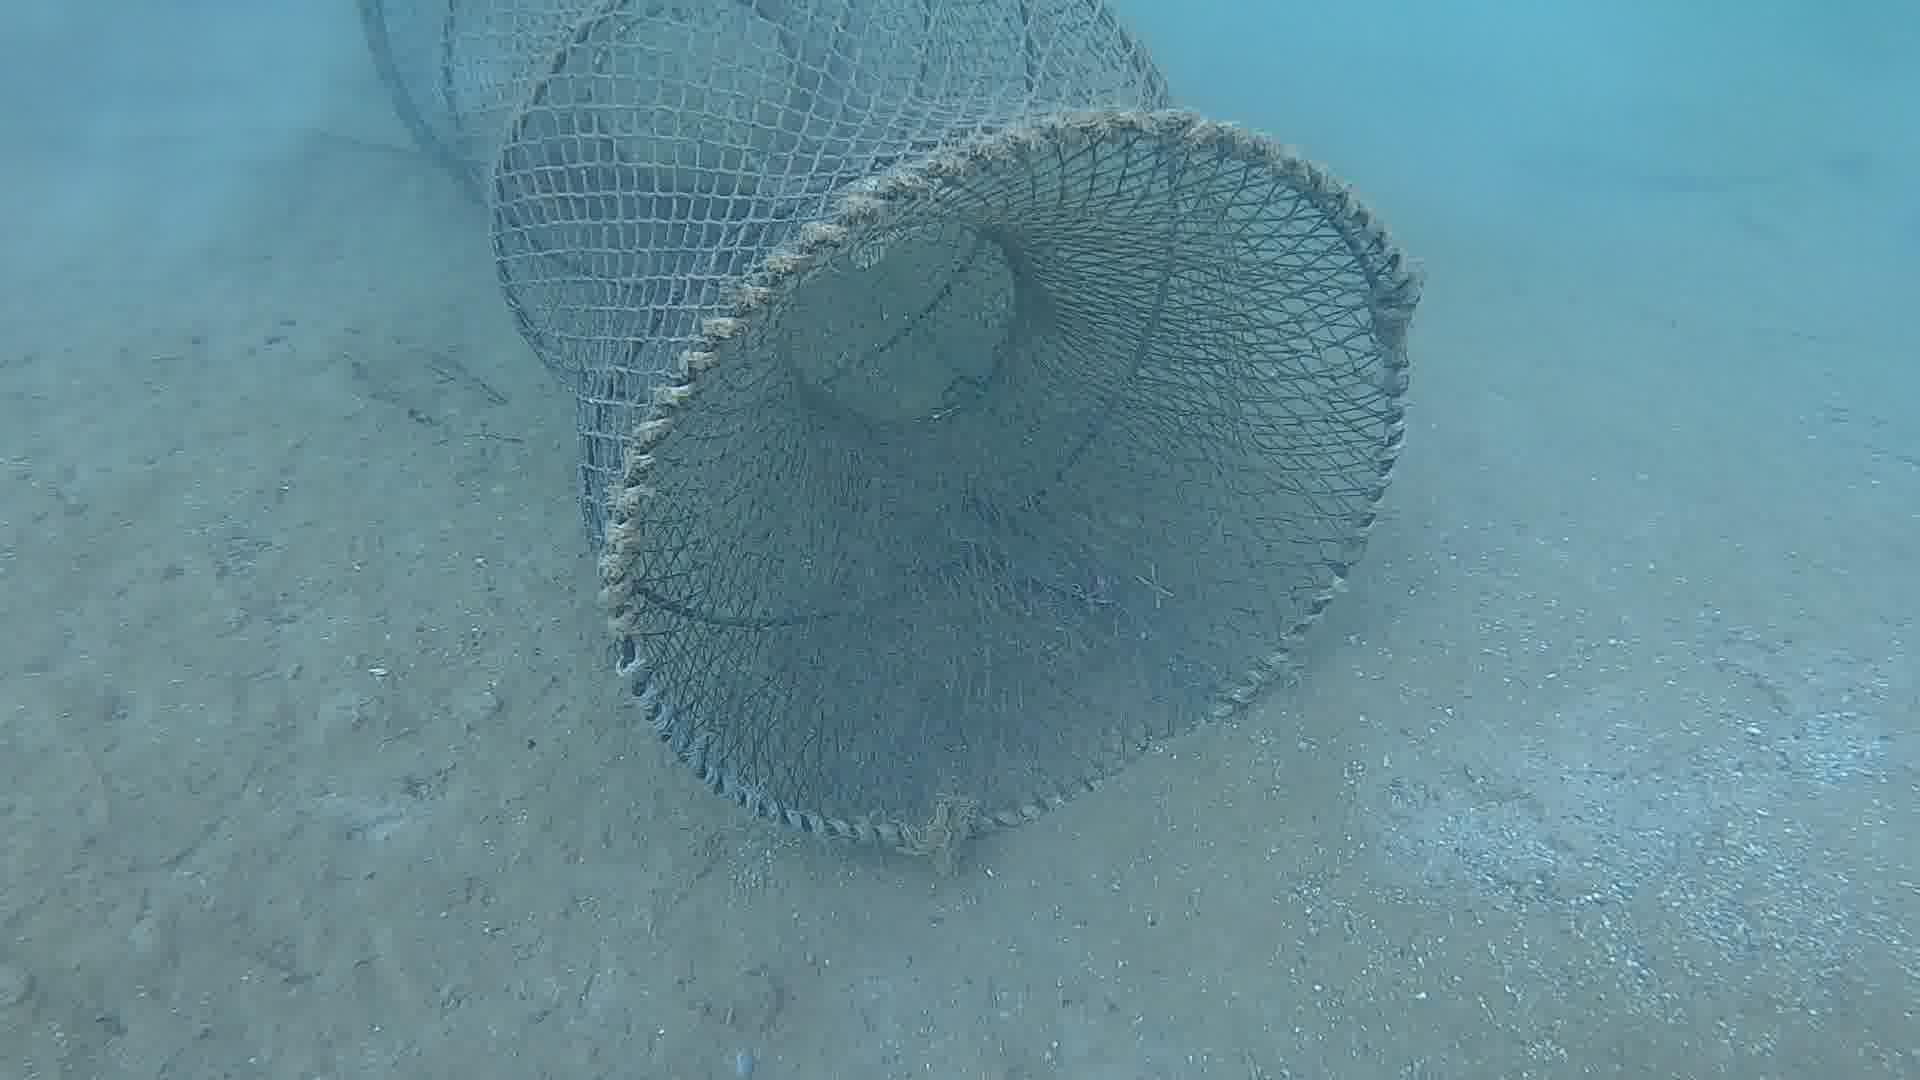spring fish trap: (360, 0, 1431, 877)
